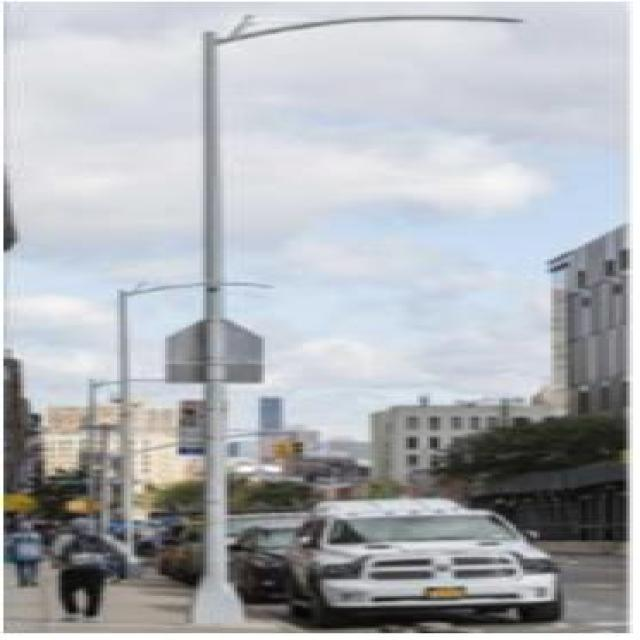off: (447, 0, 547, 52), (227, 254, 299, 323)
